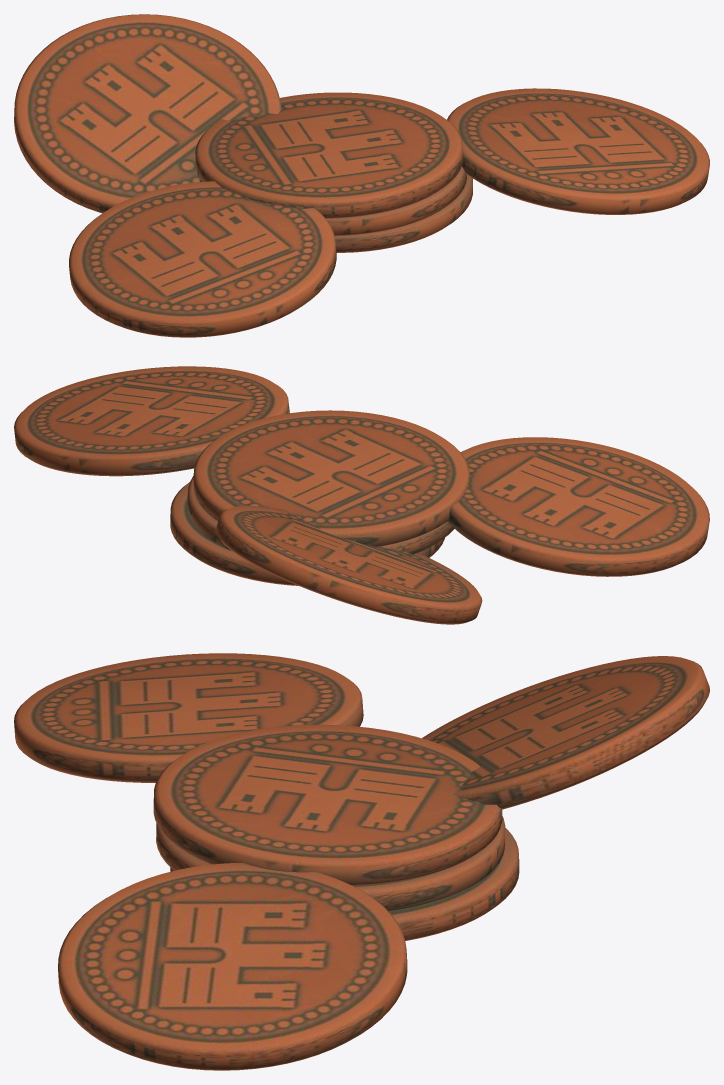
The model's file is copper_coin.glb.
The picture shows the model from 3 angles, top to bottom: view 1: azimuth 30°, elevation 25°; view 2: azimuth 150°, elevation 25°; view 3: azimuth 270°, elevation 25°; orthographic projection. The views are drawn at different scales.
Visible parts, largest first — view 1: copper_coin; view 2: copper_coin; view 3: copper_coin.
Boxes of the visible parts, <box> form: copper_coin: <box>14,14,709,337</box>; copper_coin: <box>14,366,709,624</box>; copper_coin: <box>14,653,709,1070</box>.
Bounding box in the file's own units: 0.0724 × 0.0119 × 0.0538.
1 material, 1 textured.
